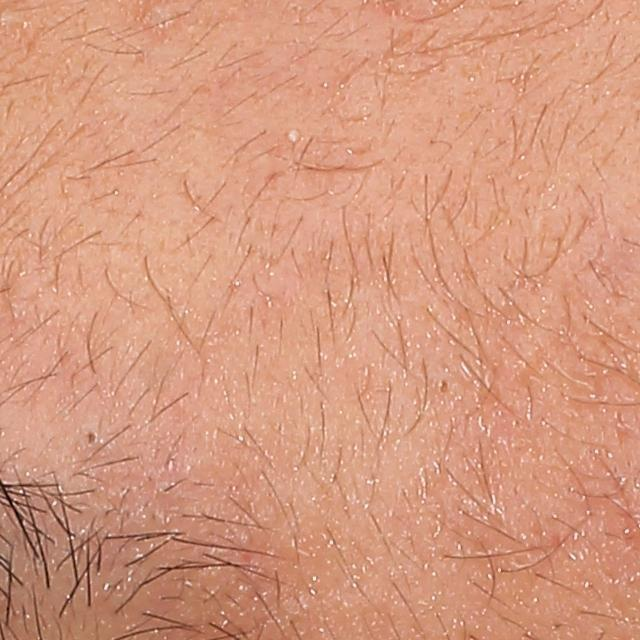comedo: (81, 423, 104, 455), (145, 5, 170, 30)
